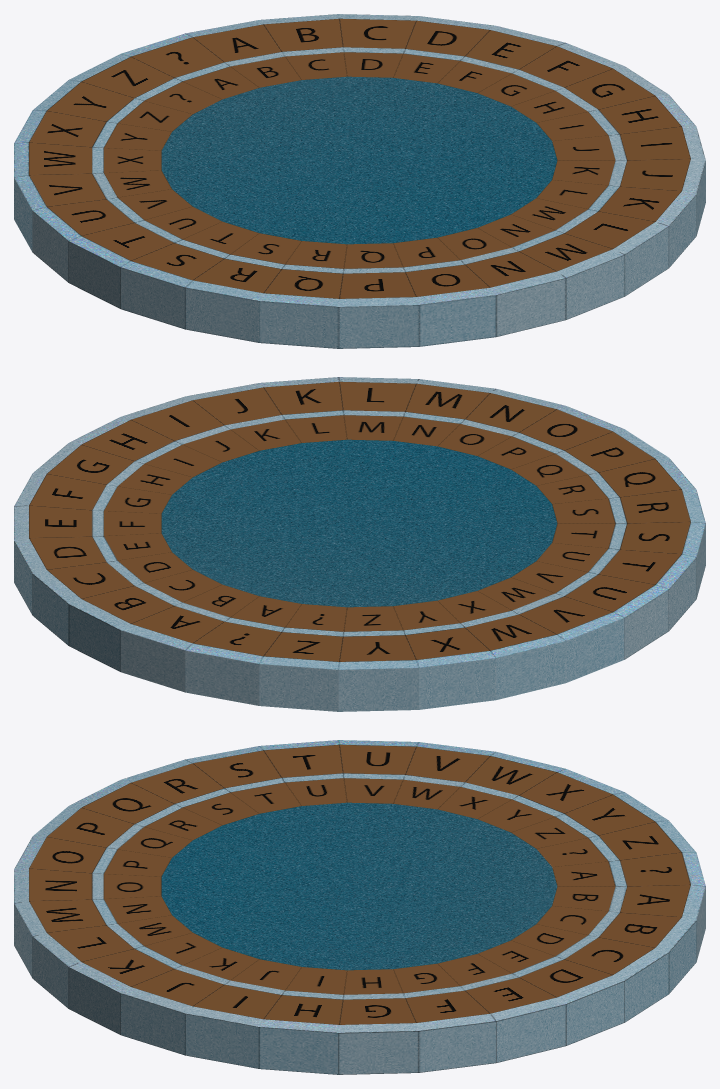
File: CaesarCipher.fbx
3 views of the same model, one above another, from view 1: azimuth 30°, elevation 25°; view 2: azimuth 150°, elevation 25°; view 3: azimuth 270°, elevation 25° (orthographic).
Visible parts, largest first — view 1: Cylinder, Cylinder.001, Cylinder.002; view 2: Cylinder, Cylinder.001, Cylinder.002; view 3: Cylinder, Cylinder.001, Cylinder.002.
Part boxes in pixels (box(x1,y1,x2,y2)): Cylinder: box(14, 14, 705, 348); Cylinder.001: box(29, 18, 690, 298); Cylinder.002: box(103, 52, 615, 268); Cylinder: box(14, 377, 705, 711); Cylinder.001: box(29, 381, 690, 661); Cylinder.002: box(103, 415, 615, 631); Cylinder: box(14, 740, 705, 1074); Cylinder.001: box(29, 744, 690, 1024); Cylinder.002: box(103, 778, 615, 994).
Size of the model in its own units: 929 by 66.96 by 928.
